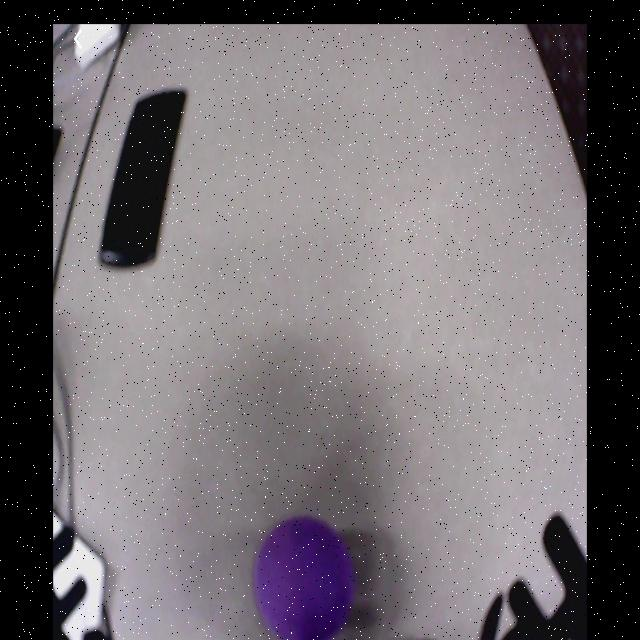ball: (252, 518, 354, 638)
